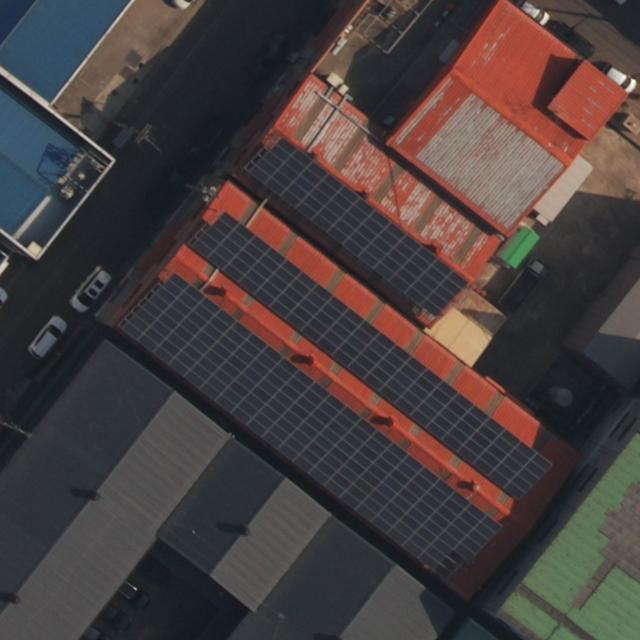solarpanel: (115, 272, 509, 589), (188, 212, 556, 506), (250, 136, 471, 325)
